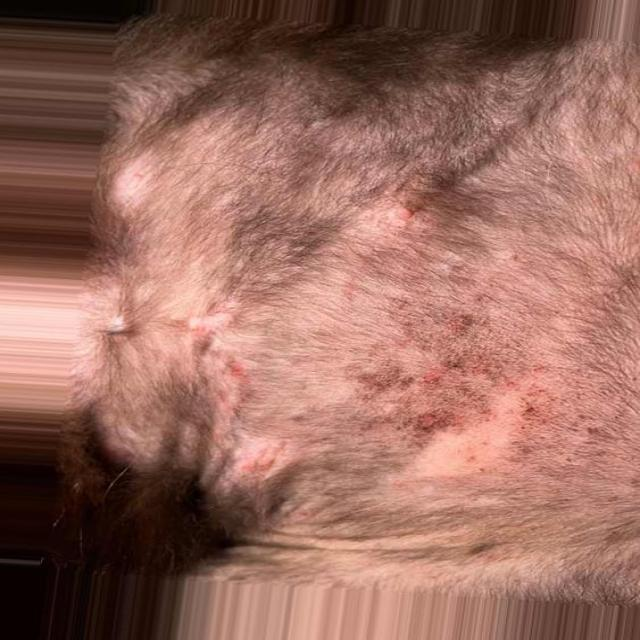di ung bo chet: (128, 91, 640, 563)
